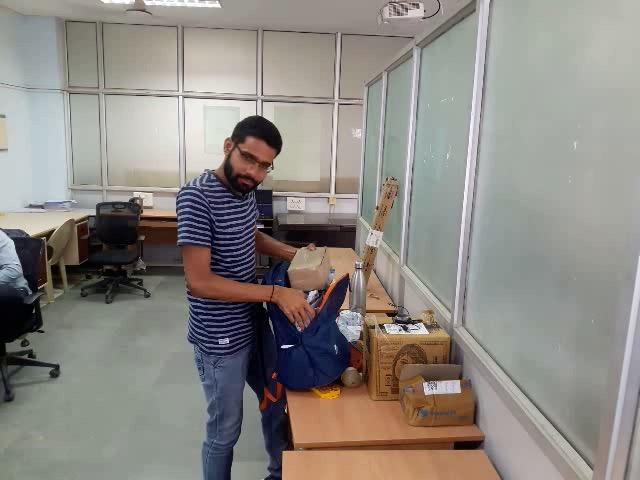shoplifting: (181, 236, 422, 348)
